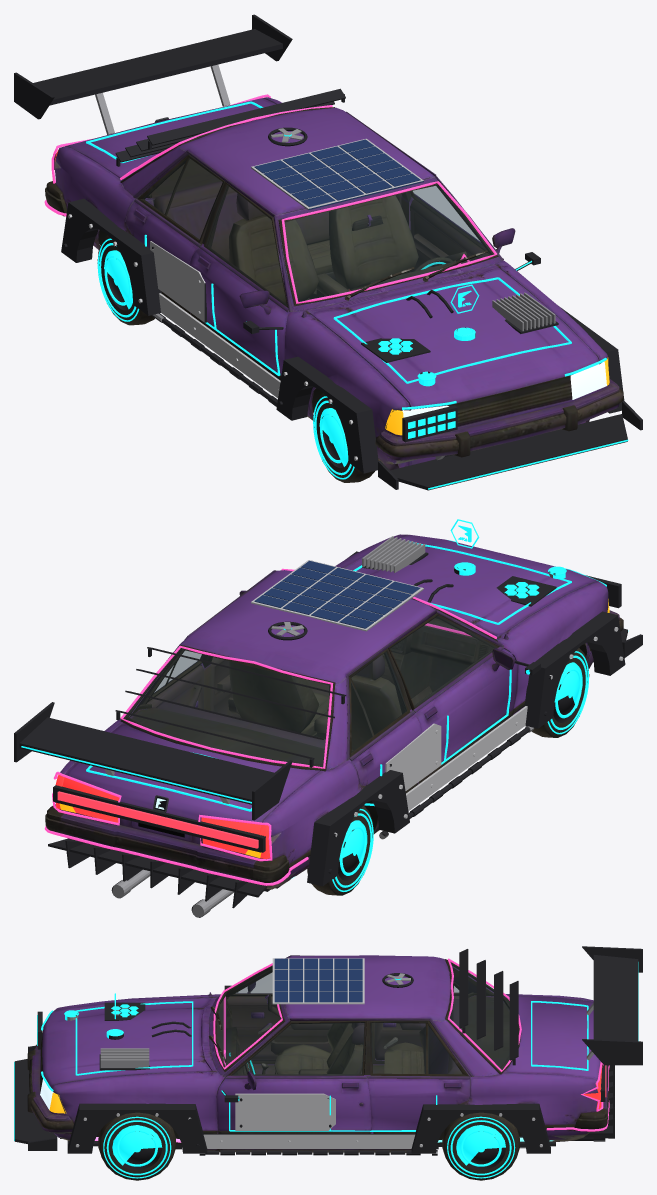
The model's file is car-dirty-low.glb.
3 views of the same model, one above another, from view 1: azimuth 30°, elevation 25°; view 2: azimuth 150°, elevation 25°; view 3: azimuth 270°, elevation 25° (orthographic). The views are drawn at different scales.
Parts seen in each view (by area): view 1: body, kit_armor_dark, glass, cockpit_static, kit_raw_metal, kit_solar_cell, glass_rear, kit_neon_beat, kit_chassis_steel, wheel_trim_RR, wheel_trim_FR, neon_edges (+4 smaller); view 2: body, kit_armor_dark, glass_rear, cockpit_static, kit_raw_metal, kit_solar_cell, glass, kit_neon_beat, kit_chassis_steel, neon_rear, kit_light_bar, wheel_trim_FR (+4 smaller); view 3: body, kit_armor_dark, glass, kit_raw_metal, glass_rear, cockpit_static, kit_solar_cell, wheel_trim_RL, wheel_trim_FL, wheel_FL, wheel_RL, kit_neon_beat (+3 smaller).
Boxes of the visible parts, left/top/right/bottom form: body: left=45, top=97, right=623, bottom=470; kit_armor_dark: left=14, top=14, right=642, bottom=490; glass: left=205, top=185, right=492, bottom=306; cockpit_static: left=229, top=195, right=471, bottom=303; kit_raw_metal: left=68, top=138, right=423, bottom=460; kit_solar_cell: left=254, top=139, right=423, bottom=209; glass_rear: left=132, top=156, right=222, bottom=239; kit_neon_beat: left=86, top=101, right=628, bottom=489; kit_chassis_steel: left=95, top=64, right=555, bottom=460; wheel_trim_RR: left=97, top=238, right=139, bottom=321; wheel_trim_FR: left=313, top=396, right=354, bottom=479; neon_edges: left=281, top=181, right=497, bottom=303; body: left=45, top=534, right=623, bottom=889; kit_armor_dark: left=14, top=551, right=642, bottom=917; glass_rear: left=123, top=649, right=406, bottom=766; cockpit_static: left=229, top=618, right=493, bottom=751; kit_raw_metal: left=251, top=560, right=623, bottom=836; kit_solar_cell: left=254, top=560, right=420, bottom=628; glass: left=390, top=616, right=496, bottom=707; kit_neon_beat: left=21, top=541, right=628, bottom=811; kit_chassis_steel: left=104, top=536, right=552, bottom=917; neon_rear: left=44, top=645, right=333, bottom=885; kit_light_bar: left=57, top=791, right=258, bottom=848; wheel_trim_FR: left=547, top=651, right=589, bottom=734; body: left=27, top=955, right=609, bottom=1152; kit_armor_dark: left=14, top=946, right=642, bottom=1155; glass: left=217, top=966, right=364, bottom=1075; kit_raw_metal: left=75, top=958, right=542, bottom=1148; glass_rear: left=371, top=963, right=509, bottom=1073; cockpit_static: left=208, top=998, right=424, bottom=1074; kit_solar_cell: left=274, top=958, right=362, bottom=1002; wheel_trim_RL: left=447, top=1116, right=515, bottom=1178; wheel_trim_FL: left=103, top=1116, right=171, bottom=1178; wheel_FL: left=98, top=1112, right=175, bottom=1180; wheel_RL: left=442, top=1112, right=519, bottom=1180; kit_neon_beat: left=14, top=962, right=638, bottom=1140.
Size of the model in its own units: 2.75 by 1.83 by 6.5.
Materials: 35 (3 with a texture image).
